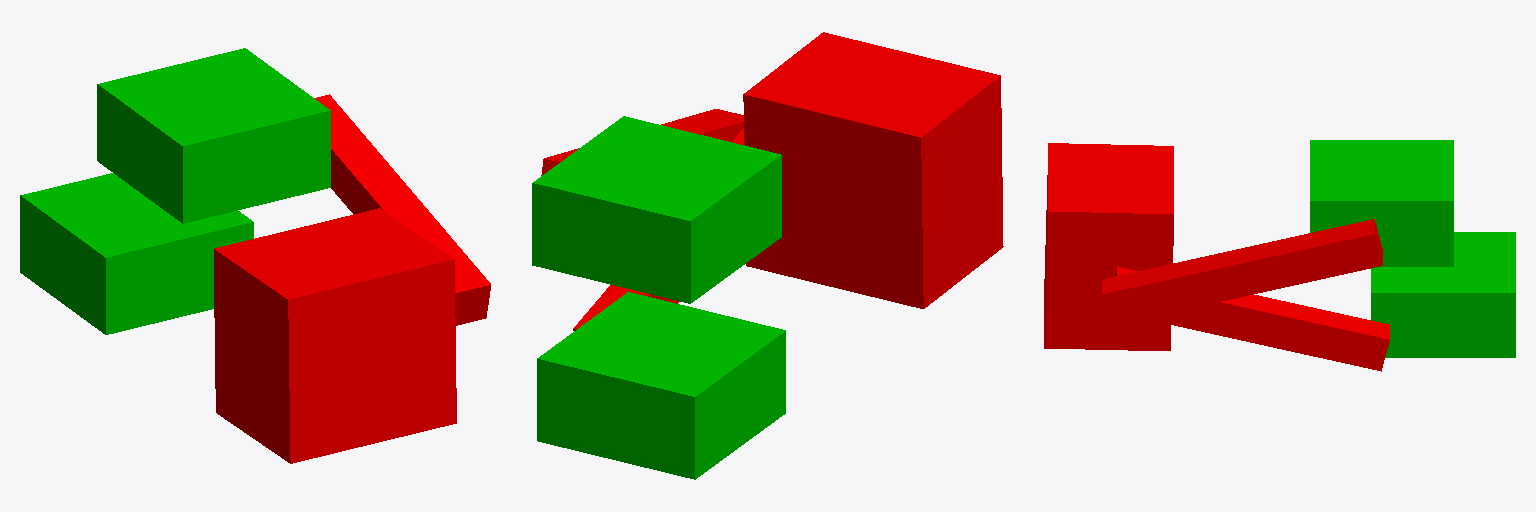
The robot description file, URDF, robot "amr_crick":
<?xml version="1.0"?>
<robot name="amr_crick">

    <gazebo>
        <plugin name="gazebo_ros_control" filename="libgazebo_ros_control.so">
            <robotNamespace>/amr_crick</robotNamespace>
        </plugin>
    </gazebo>

    <material name="green">
        <color rgba="0 0.8 0 1"/>
    </material>

    <material name="red">
        <color rgba="1 0 0 1"/>
    </material>

    <!-- base_link START -->
    <link name="base_link">
    </link>

     <link name="body_link">
        <inertial>
            <origin xyz="0 0 0" rpy="0 0 0"/>
            <mass value="0.033" />
            <inertia ixx="67e-6" ixy="0.0" ixz="0.0" iyy="84e-6" iyz="0.0" izz="131e-6"/>
        </inertial>
       
        <collision>
            <origin xyz="0 0 0" rpy="0 0 0"/>
            <geometry>
                <box size="0.040 0.040 0.020"/>
            </geometry>
        </collision>

        <visual>
            <origin rpy="0 0 0" xyz="0 0 0"/>
            <geometry>
                 <box size="0.040 0.040 0.020"/>
            </geometry>
            <material name="green"/>
        </visual>

    </link>

    <joint name="base_joint" type="fixed">
        <parent link="base_link"/>
        <child link="body_link"/>
        <origin xyz="0.0 0 0.0" rpy="0 0 0"/>
    </joint>

    <gazebo reference="body_link">
        <kp>10000.0</kp>
        <kd>10000.0</kd>
        <mu1>10.0</mu1>
        <mu2>10.0</mu2>
        <material>Gazebo/Grey</material>
    </gazebo>

    <!-- base_link END -->


    <!-- rods_sx_down_link START -->

    <link name="rods_sx_down_link">

        <inertial>
            <origin xyz="0 -0.039 0" rpy="0 0 0"/>
            <mass value="0.089" />
            <inertia ixx="75e-6" ixy="0.0" ixz="0.0" iyy="142e-6" iyz="0.0" izz="216e-6"/>
        </inertial>
       
        <collision>
            <origin xyz="0 -0.038 0" rpy="0 0 0"/>
            <geometry>
                <box size = "0.010 0.078 0.010"/>
             <!--    <mesh filename="package://amr_crick_description/models/meshes/amr_crick_rods_sx_down.dae"/> -->
            </geometry>
        </collision> 

        <visual>
            <origin  xyz="0 -0.038 0" rpy="0 0 0"/>
            <geometry>
            <box size = "0.010 0.078 0.010"/>
             <!--    <mesh filename="package://amr_crick_description/models/meshes/amr_crick_rods_sx_down.dae"/> -->
            </geometry>
             <material name="red"/>
        </visual>
    </link>

    <gazebo reference="rods_sx_down_link">
        <kp>10000.0</kp>
        <kd>10000.0</kd>
        <mu1>10.0</mu1>
        <mu2>10.0</mu2>
        <material>Gazebo/Grey</material>
    </gazebo>

    <!-- rods_sx_down_link END -->

    <!-- 1/ roll_1 START -->        
    <joint name="roll_1_joint" type="revolute">
        <parent link="body_link"/>
        <child link="rods_sx_down_link"/>
        <origin xyz="0.026 -0.017 -0.004" rpy="-0.24 0 0"/>
        <limit lower="-3.14159" upper="3.14159" effort="1000" velocity="0.005"/>
        <axis xyz="1 0 0"/>
    </joint>

    <transmission name="tran1">
        <type>transmission_interface/SimpleTransmission</type>
        <joint name="roll_1_joint">
            <hardwareInterface>EffortJointInterface</hardwareInterface>
        </joint>
        <actuator name="motor1">
            <hardwareInterface>EffortJointInterface</hardwareInterface>
            <mechanicalReduction>1</mechanicalReduction>
        </actuator>
    </transmission>
    <!-- roll_1 END -->   

    <!-- amr_crick_mozzo_motore_link START --> 
    <link name="amr_crick_mozzo_motore_link">

        <inertial>
            <origin xyz="-0.026 0 0" rpy="0 0 0"/>
            <mass value="0.1" />
            <inertia ixx="400e-6" ixy="0.0" ixz="0.0" iyy="200e-6" iyz="0.0" izz="400e-6"/>
        </inertial>
       
     
        <collision>
            <origin xyz="-0.026 0 0" rpy="-0.026 0 0"/>
            <geometry>
                <box size="0.045 0.035 0.042"/>
                <!--  <mesh filename="package://amr_crick_description/models/meshes/amr_crick_mozzo_motore.dae"/>-->
            </geometry> 
        </collision>   

        <visual>
           <origin xyz="-0.026 0 0" rpy="-0.026 0 0"/>
            <geometry>
               <!--  <mesh filename="package://amr_crick_description/models/meshes/amr_crick_mozzo_motore.dae"/>--> 
                <box size="0.045 0.035 0.042"/>
            </geometry>
             <material name="red"/>
        </visual>
    </link>

    <gazebo reference="amr_crick_mozzo_motore_link">
        <kp>10000.0</kp>
        <kd>10000.0</kd>
        <mu1>10.0</mu1>
        <mu2>10.0</mu2>
        <material>Gazebo/Grey</material>
    </gazebo>

    <!-- amr_crick_mozzo_motore_link END -->

    <!-- 2/ roll_2 START -->        
    <joint name="roll_2_joint" type="revolute">
        <parent link="rods_sx_down_link"/>
        <child link="amr_crick_mozzo_motore_link"/>
        <origin xyz="0 -0.078 0" rpy="0.24 0 0"/>
        <limit lower="-3.14159" upper="3.14159" effort="1000" velocity="0.005"/>
        <axis xyz="1 0 0"/>
    </joint>

    <transmission name="tran2">
        <type>transmission_interface/SimpleTransmission</type>
        <joint name="roll_2_joint">
            <hardwareInterface>EffortJointInterface</hardwareInterface>
        </joint>
        <actuator name="motor2">
            <hardwareInterface>EffortJointInterface</hardwareInterface>
            <mechanicalReduction>1</mechanicalReduction>
        </actuator>
    </transmission>
    <!-- roll_2 END --> 
    <!-- rods_sx_up_link START -->
    <link name="rods_sx_up_link">

        <inertial>
             <origin  xyz="0 0.038 0" rpy="0 0 0"/>
            <mass value="0.089" />
            <inertia ixx="75e-6" ixy="0.0" ixz="0.0" iyy="142e-6" iyz="0.0" izz="216e-6"/>
        </inertial>
       
        <collision>
             <origin  xyz="0 0.038 0" rpy="0 0 0"/>
            <geometry>
                <box size = "0.010 0.078 0.010"/>
             <!--    <mesh filename="package://amr_crick_description/models/meshes/amr_crick_rods_sx_down.dae"/> -->
            </geometry>
        </collision> 

        <visual>
            <origin  xyz="0 0.038 0" rpy="0 0 0"/>
            <geometry>
            <box size = "0.010 0.078 0.010"/>
             <!--    <mesh filename="package://amr_crick_description/models/meshes/amr_crick_rods_sx_down.dae"/> -->
            </geometry>
             <material name="red"/>
        </visual>
    </link>

    <gazebo reference="rods_sx_up_link">
        <kp>1000.0</kp>
        <kd>1000.0</kd>
        <mu1>10.0</mu1>
        <mu2>10.0</mu2>
        <material>Gazebo/Grey</material>
    </gazebo>

    <!-- rods_sx_up_link END -->

    <!-- 3/ roll_3 START -->        
    <joint name="roll_3_joint" type="revolute">
        <parent link="amr_crick_mozzo_motore_link"/>
        <child link="rods_sx_up_link"/>
        <origin xyz="0.010 0 0" rpy="0.24 0 0"/>
        <limit lower="-3.14159" upper="3.14159" effort="1000" velocity="0.005"/>
        <axis xyz="1 0 0"/>
    </joint>

        <transmission name="tran3">
        <type>transmission_interface/SimpleTransmission</type>
        <joint name="roll_3_joint">
            <hardwareInterface>EffortJointInterface</hardwareInterface>
        </joint>
        <actuator name="motor3">
            <hardwareInterface>EffortJointInterface</hardwareInterface>
            <mechanicalReduction>1</mechanicalReduction>
        </actuator>
    </transmission>
   
    <!-- roll_3 END --> 
    <!--body up start --> 

         <link name="body_up_link">
        <inertial>
           <origin rpy="0 0 0" xyz="-0.025 0 0"/>
            <mass value="0.033" />
            <inertia ixx="67e-6" ixy="0.0" ixz="0.0" iyy="84e-6" iyz="0.0" izz="131e-6"/>
        </inertial>
       
        <collision>
           <origin rpy="0 0 0" xyz="-0.025 0 0"/>
            <geometry>
                <box size="0.040 0.040 0.020"/>
            </geometry>
        </collision>

        <visual>
            <origin rpy="0 0 0" xyz="-0.025 0 0"/>
            <geometry>
                 <box size="0.040 0.040 0.020"/>
            </geometry>
            <material name="green"/>
        </visual>

    </link>

    <gazebo reference="body_up_link">
        <kp>10000.0</kp>
        <kd>10000.0</kd>
        <mu1>10.0</mu1>
        <mu2>10.0</mu2>
        <material>Gazebo/Grey</material>
    </gazebo>


    <!-- 4/ roll_4 START -->        
    <joint name="roll_4_joint" type="revolute">
        <parent link="rods_sx_up_link"/>
        <child link="body_up_link"/>
        <origin xyz="0 0.078 0" rpy="-0.24 0 0"/>
        <limit lower="-3.14159" upper="3.14159" effort="1000" velocity="0.005"/>
        <axis xyz="1 0 0"/>
    </joint>

        <transmission name="tran4">
        <type>transmission_interface/SimpleTransmission</type>
        <joint name="roll_4_joint">
            <hardwareInterface>EffortJointInterface</hardwareInterface>
        </joint>
        <actuator name="motor4">
            <hardwareInterface>EffortJointInterface</hardwareInterface>
            <mechanicalReduction>1</mechanicalReduction>
        </actuator>
    </transmission>

    </robot> 

--- Facts derived from the render (not from the file) ---
The picture shows the robot from 3 angles, left to right: view 1: azimuth 30°, elevation 25°; view 2: azimuth 150°, elevation 25°; view 3: azimuth 270°, elevation 25°; orthographic projection.
Robot: amr_crick — 6 links, 5 joints (4 revolute, 1 fixed); root link base_link; default pose: every joint at zero.
Visible links, largest first — view 1: amr_crick_mozzo_motore_link, body_up_link, body_link, rods_sx_up_link; view 2: amr_crick_mozzo_motore_link, body_up_link, body_link, rods_sx_up_link, rods_sx_down_link; view 3: amr_crick_mozzo_motore_link, body_up_link, body_link, rods_sx_up_link, rods_sx_down_link.
Boxes of the visible links, x1=… form: amr_crick_mozzo_motore_link: x1=214, y1=208, x2=456, y2=463; body_up_link: x1=97, y1=48, x2=330, y2=223; body_link: x1=20, y1=173, x2=253, y2=334; rods_sx_up_link: x1=315, y1=94, x2=490, y2=325; amr_crick_mozzo_motore_link: x1=743, y1=32, x2=1003, y2=308; body_up_link: x1=532, y1=116, x2=781, y2=303; body_link: x1=537, y1=292, x2=785, y2=479; rods_sx_up_link: x1=541, y1=109, x2=743, y2=175; rods_sx_down_link: x1=573, y1=128, x2=743, y2=330; amr_crick_mozzo_motore_link: x1=1044, y1=143, x2=1173, y2=350; body_up_link: x1=1310, y1=140, x2=1453, y2=266; body_link: x1=1371, y1=232, x2=1515, y2=357; rods_sx_up_link: x1=1102, y1=219, x2=1382, y2=325; rods_sx_down_link: x1=1115, y1=266, x2=1389, y2=371.
Size in the robot's own frame: 0.0635 by 0.1308 by 0.0531 metres.
Geometry: primitives only (box / cylinder / sphere), no mesh files.
